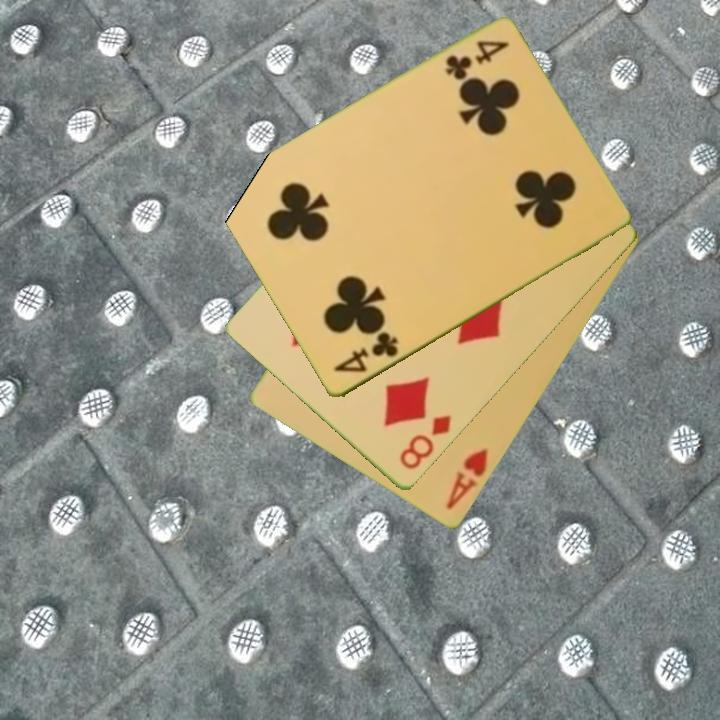4c: (329, 328, 402, 377), (441, 37, 512, 84)
8d: (395, 411, 455, 473)
Ah: (443, 445, 491, 514)
